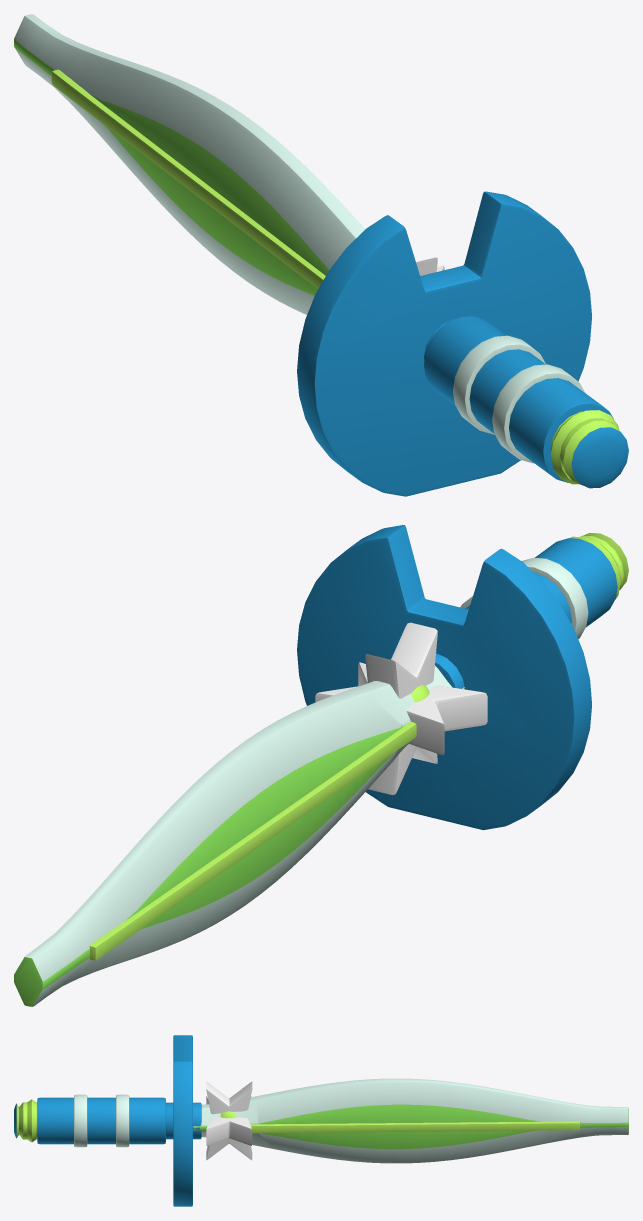
Rendered from Sword_LilypadLantern.glb.
The picture shows the model from 3 angles, top to bottom: view 1: azimuth 30°, elevation 25°; view 2: azimuth 150°, elevation 25°; view 3: azimuth 270°, elevation 25°; orthographic projection. The views are drawn at different scales.
Visible parts, largest first — view 1: Sword_LilypadLantern; view 2: Sword_LilypadLantern; view 3: Sword_LilypadLantern.
Part boxes in pixels (x1,y1,x2,y2): Sword_LilypadLantern: (14, 14, 628, 496); Sword_LilypadLantern: (14, 525, 628, 1006); Sword_LilypadLantern: (14, 1035, 628, 1206).
Bounding box in the file's own units: 0.28 × 0.2592 × 1.
Materials: 1 (1 with a texture image).
